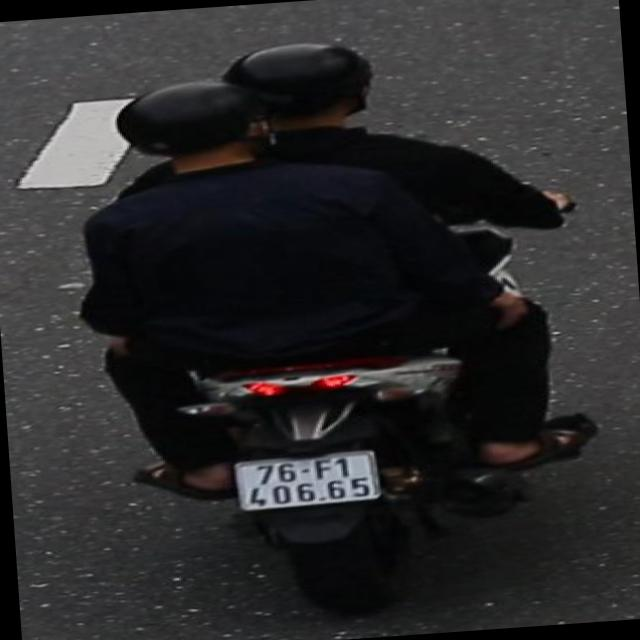LP: (224, 440, 400, 521)
helmet: (227, 33, 376, 130), (110, 74, 262, 164)
